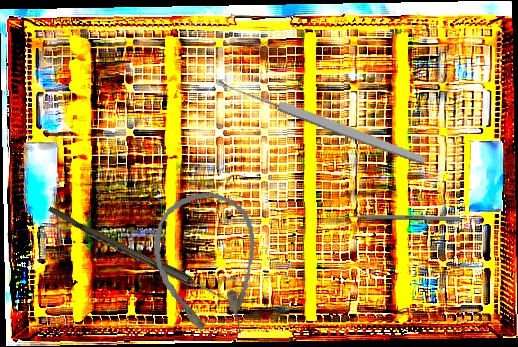Cannula: (146, 186, 268, 345)
Pusher: (331, 213, 461, 222)
Surgical Spoon: (45, 206, 245, 311), (216, 75, 427, 168)
